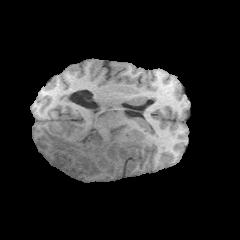glioma: (41, 123, 144, 175)
